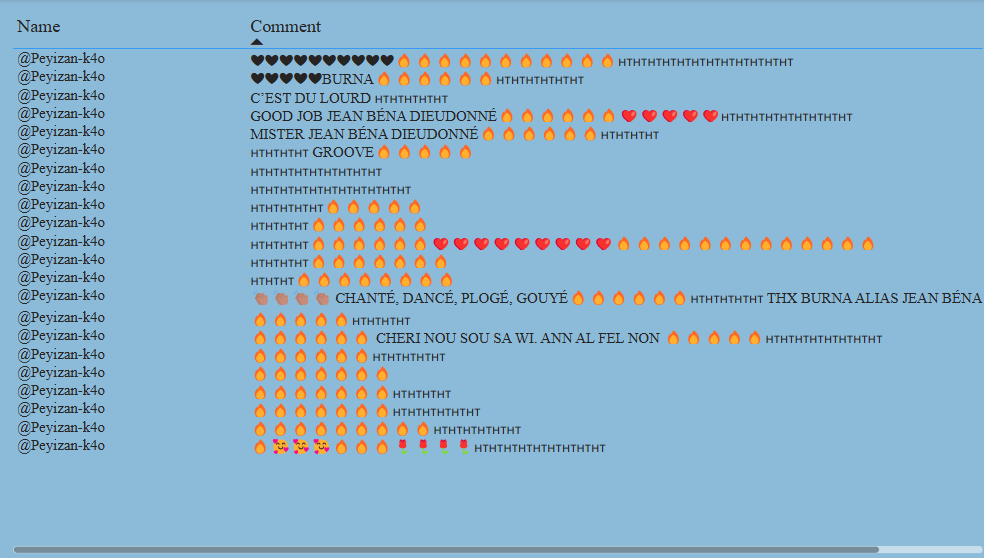

The dashboard page shown, as its layout file describes it:
{"tool":"powerbi","page":{"name":"Comments","canvas":[1280,720],"ordinal":1},"visuals":[{"type":"tableEx","fields":{"Values":["YouTube - Joé Dwèt Filé & Burna Boy.Name","YouTube - Joé Dwèt Filé & Burna Boy.Comment"]},"box":[48,16,1232,688],"z":0},{"type":"actionButton","box":[0,0,100,40],"z":1000}]}

Visuals, with their boxes in screenshot pixels (x1, y1, x2, y2), scaled from the page's 1280x720 canvas onto the 984x558 screenshot:
tableEx - YouTube - Joé Dwèt Filé & Burna Boy.Name x YouTube - Joé Dwèt Filé & Burna Boy.Comment: bbox=[37, 12, 983, 546]
actionButton: bbox=[0, 0, 77, 31]
